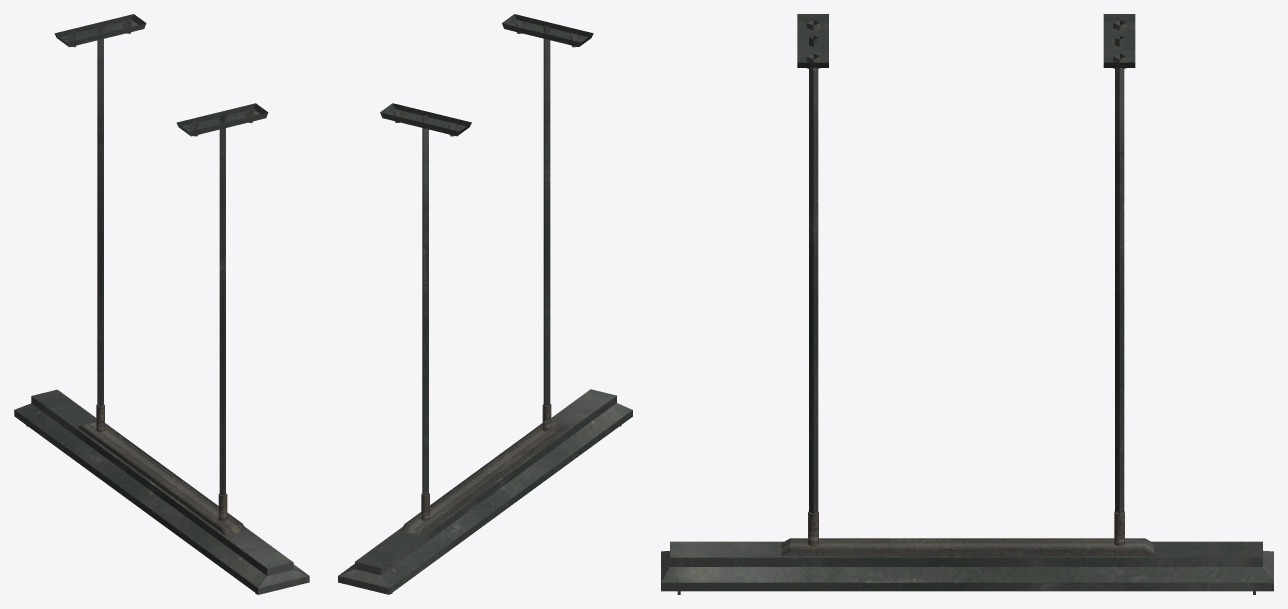
Rendered from lab_flourescentlight001a.glb.
3 views of the same model, side by side, from view 1: azimuth 30°, elevation 25°; view 2: azimuth 150°, elevation 25°; view 3: azimuth 270°, elevation 25° (orthographic). The views are drawn at different scales.
Parts seen in each view (by area): view 1: lab_flourescentlight001a; view 2: lab_flourescentlight001a; view 3: lab_flourescentlight001a.
Boxes of the visible parts, x1=… form: lab_flourescentlight001a: x1=14, y1=14, x2=309, y2=594; lab_flourescentlight001a: x1=338, y1=14, x2=632, y2=594; lab_flourescentlight001a: x1=661, y1=14, x2=1273, y2=594.
Size of the model in its own units: 0.2371 by 1.24 by 1.26.
Materials: 1 (1 with a texture image).
